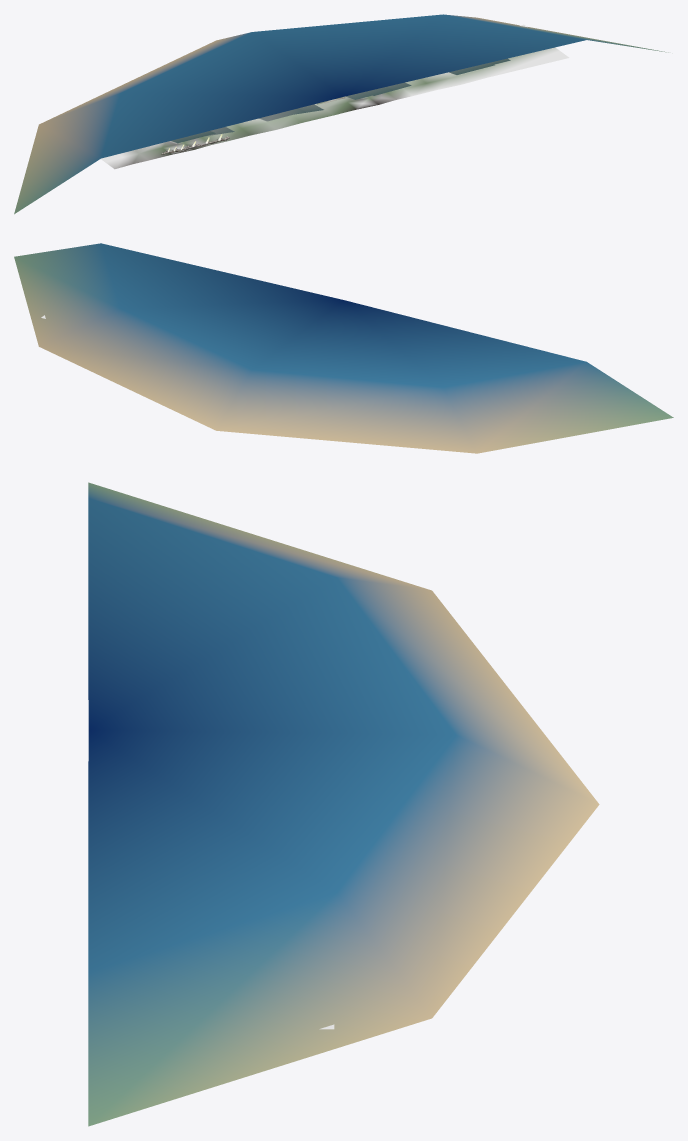
Rendered from Forest_11.fbx.
The picture shows the model from 3 angles, top to bottom: view 1: azimuth 30°, elevation 25°; view 2: azimuth 150°, elevation 25°; view 3: azimuth 270°, elevation 25°; orthographic projection. The views are drawn at different scales.
Parts seen in each view (by area): view 1: Light_01_ncl1_1, Bg_01_A, Cloud_01; view 2: Light_01_ncl1_1; view 3: Light_01_ncl1_1.
Part boxes in pixels (left/top/right/bottom): Light_01_ncl1_1: left=14, top=14, right=668, bottom=214; Bg_01_A: left=101, top=24, right=569, bottom=169; Cloud_01: left=171, top=58, right=510, bottom=143; Light_01_ncl1_1: left=14, top=243, right=673, bottom=453; Light_01_ncl1_1: left=88, top=482, right=599, bottom=1126.
Bounding box in the file's own units: 8875 × 478 × 2977.
